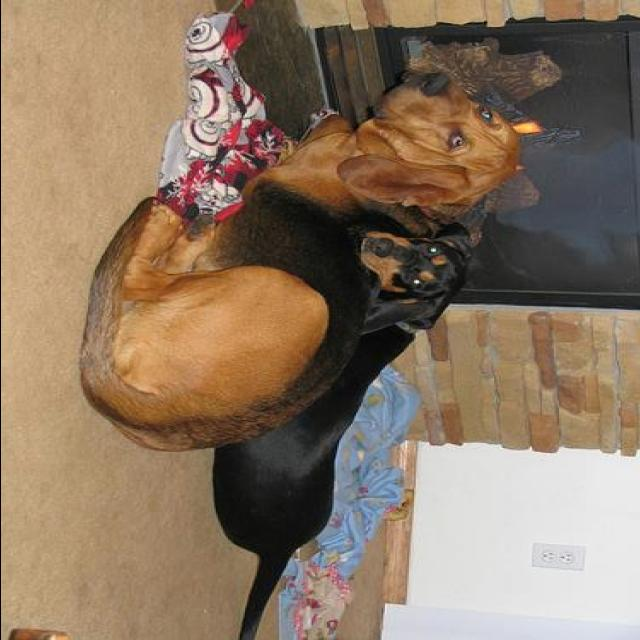bloodhound: (77, 64, 526, 452), (208, 221, 478, 639)
